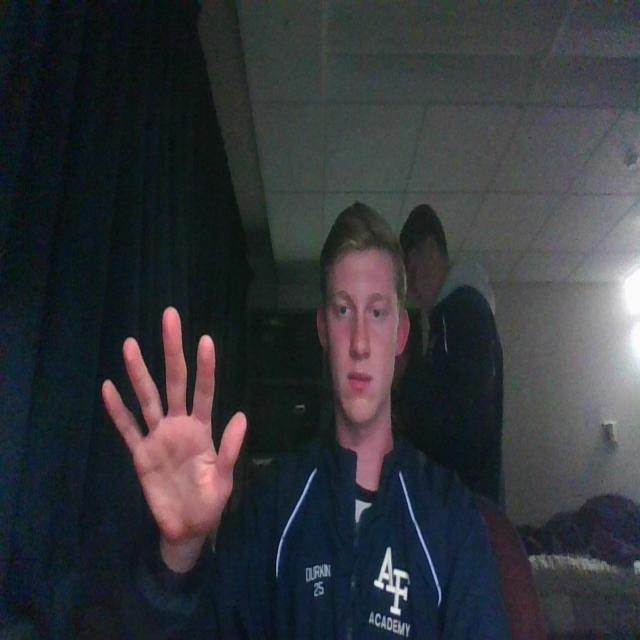paper: (96, 300, 256, 555)
